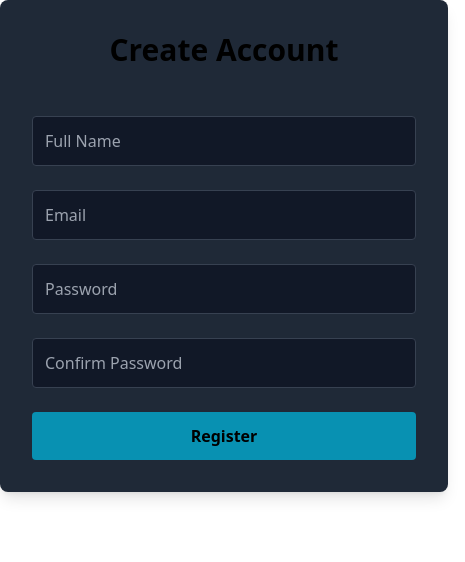
Scenario: RegisterForm › Password Validation › fails if password does not contain a lowercase letter
Type "Jane Doe" into the field with placeholder "Full Name" at (224,141), box [32,116,416,166]
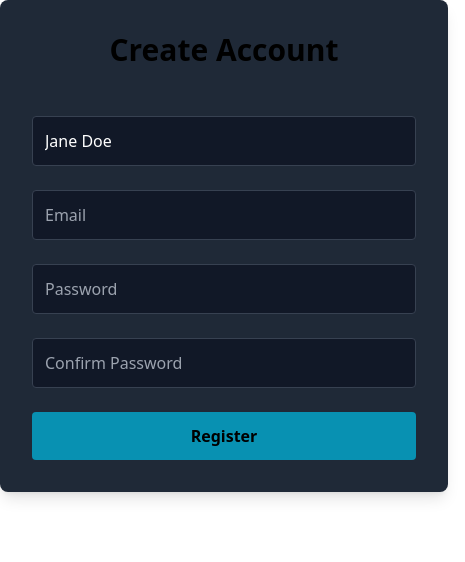
Type "jane@example.com" into the field with placeholder "Email" at (224,215), box [32,190,416,240]
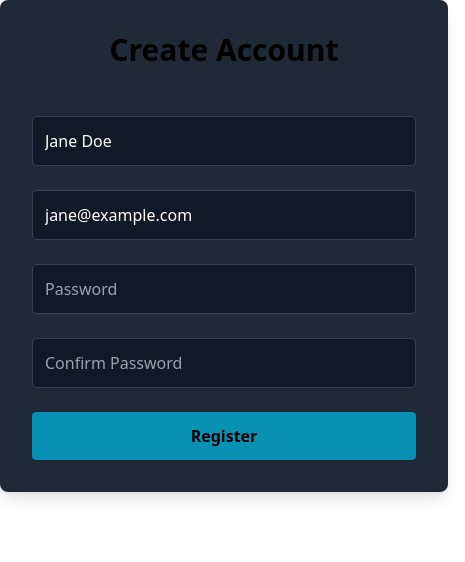
Type "PASSWORD123!" into the password field with placeholder "Password" at (224,289), box [32,264,416,314]
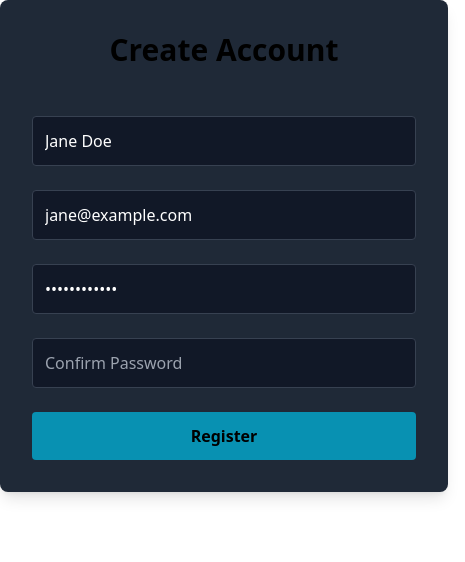
Type "PASSWORD123!" into the password field with placeholder "Confirm Password" at (224,363), box [32,338,416,388]
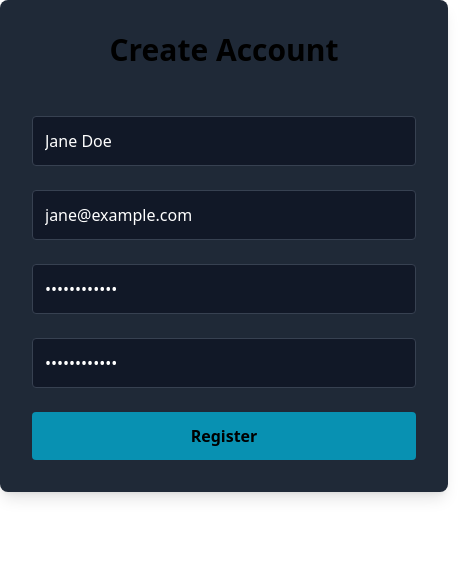
Click the button "Register" at (224,436), box [32,412,416,460]
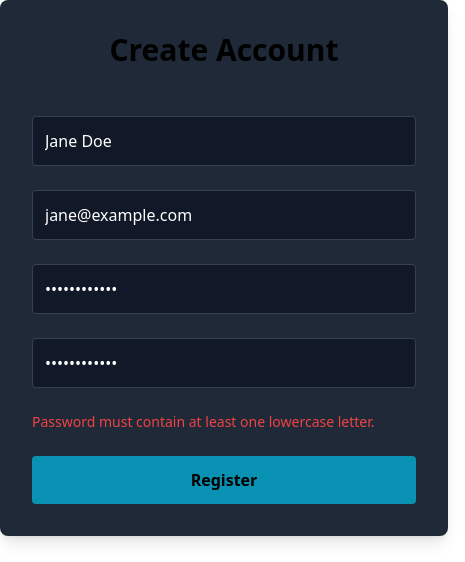
expect the text "Password must contain at least one lowercase letter." is shown: met, box [32,412,416,432]
